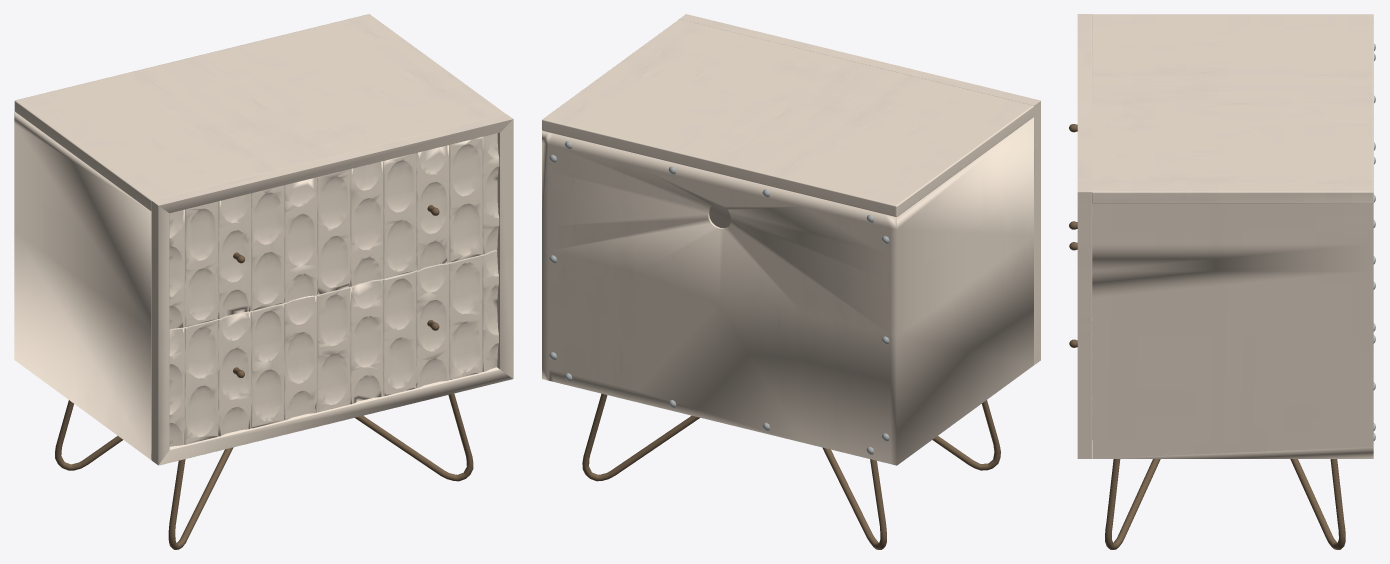
3 renders of one model, left to right at view 1: azimuth 30°, elevation 25°; view 2: azimuth 150°, elevation 25°; view 3: azimuth 270°, elevation 25°, orthographic. The views are drawn at different scales.
Visible parts, largest first — view 1: RootNode; view 2: RootNode; view 3: RootNode.
Part boxes in pixels (x1,y1,x2,y2): RootNode: (14, 14, 513, 549); RootNode: (542, 14, 1040, 549); RootNode: (1069, 14, 1375, 549).
Size of the model in its own units: 0.6138 by 0.6043 by 0.4469.
1 material, 1 textured.
